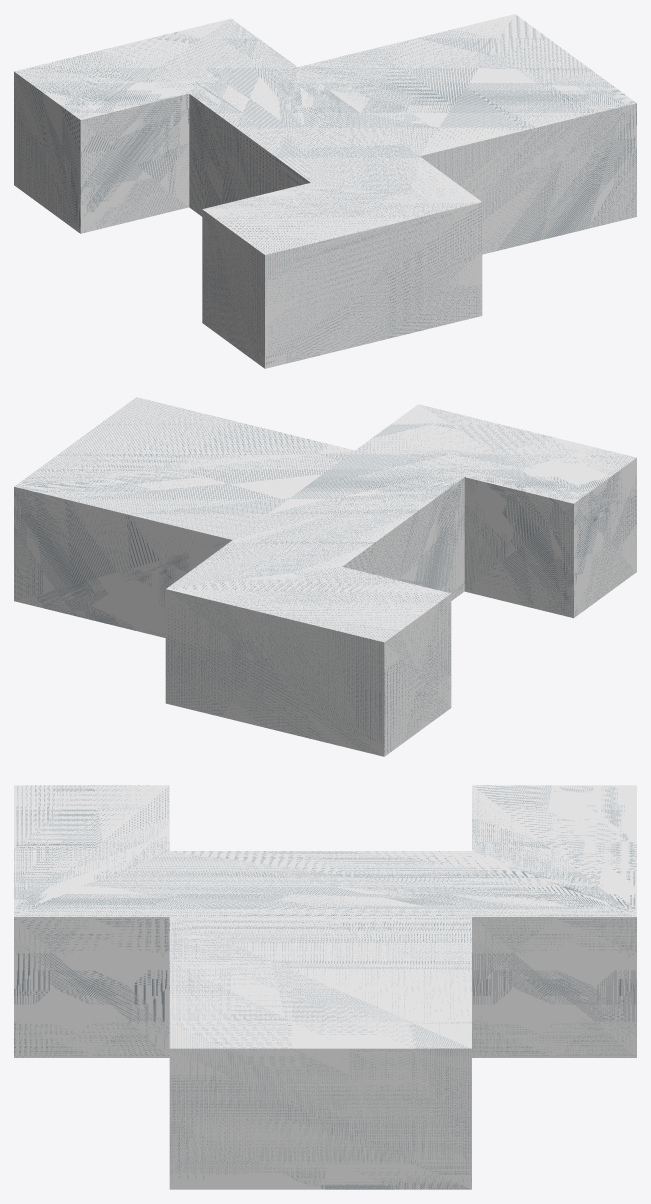
Rendered from KeyFrag7.fbx.
The picture shows the model from 3 angles, top to bottom: view 1: azimuth 30°, elevation 25°; view 2: azimuth 150°, elevation 25°; view 3: azimuth 270°, elevation 25°; orthographic projection. The views are drawn at different scales.
Visible parts, largest first — view 1: Model; view 2: Model; view 3: Model.
Boxes of the visible parts, x1,y1,x2,y2 form: Model: (14, 14, 636, 368); Model: (14, 397, 636, 756); Model: (14, 785, 636, 1189).
Bounding box in the file's own units: 100 × 25 × 100.
